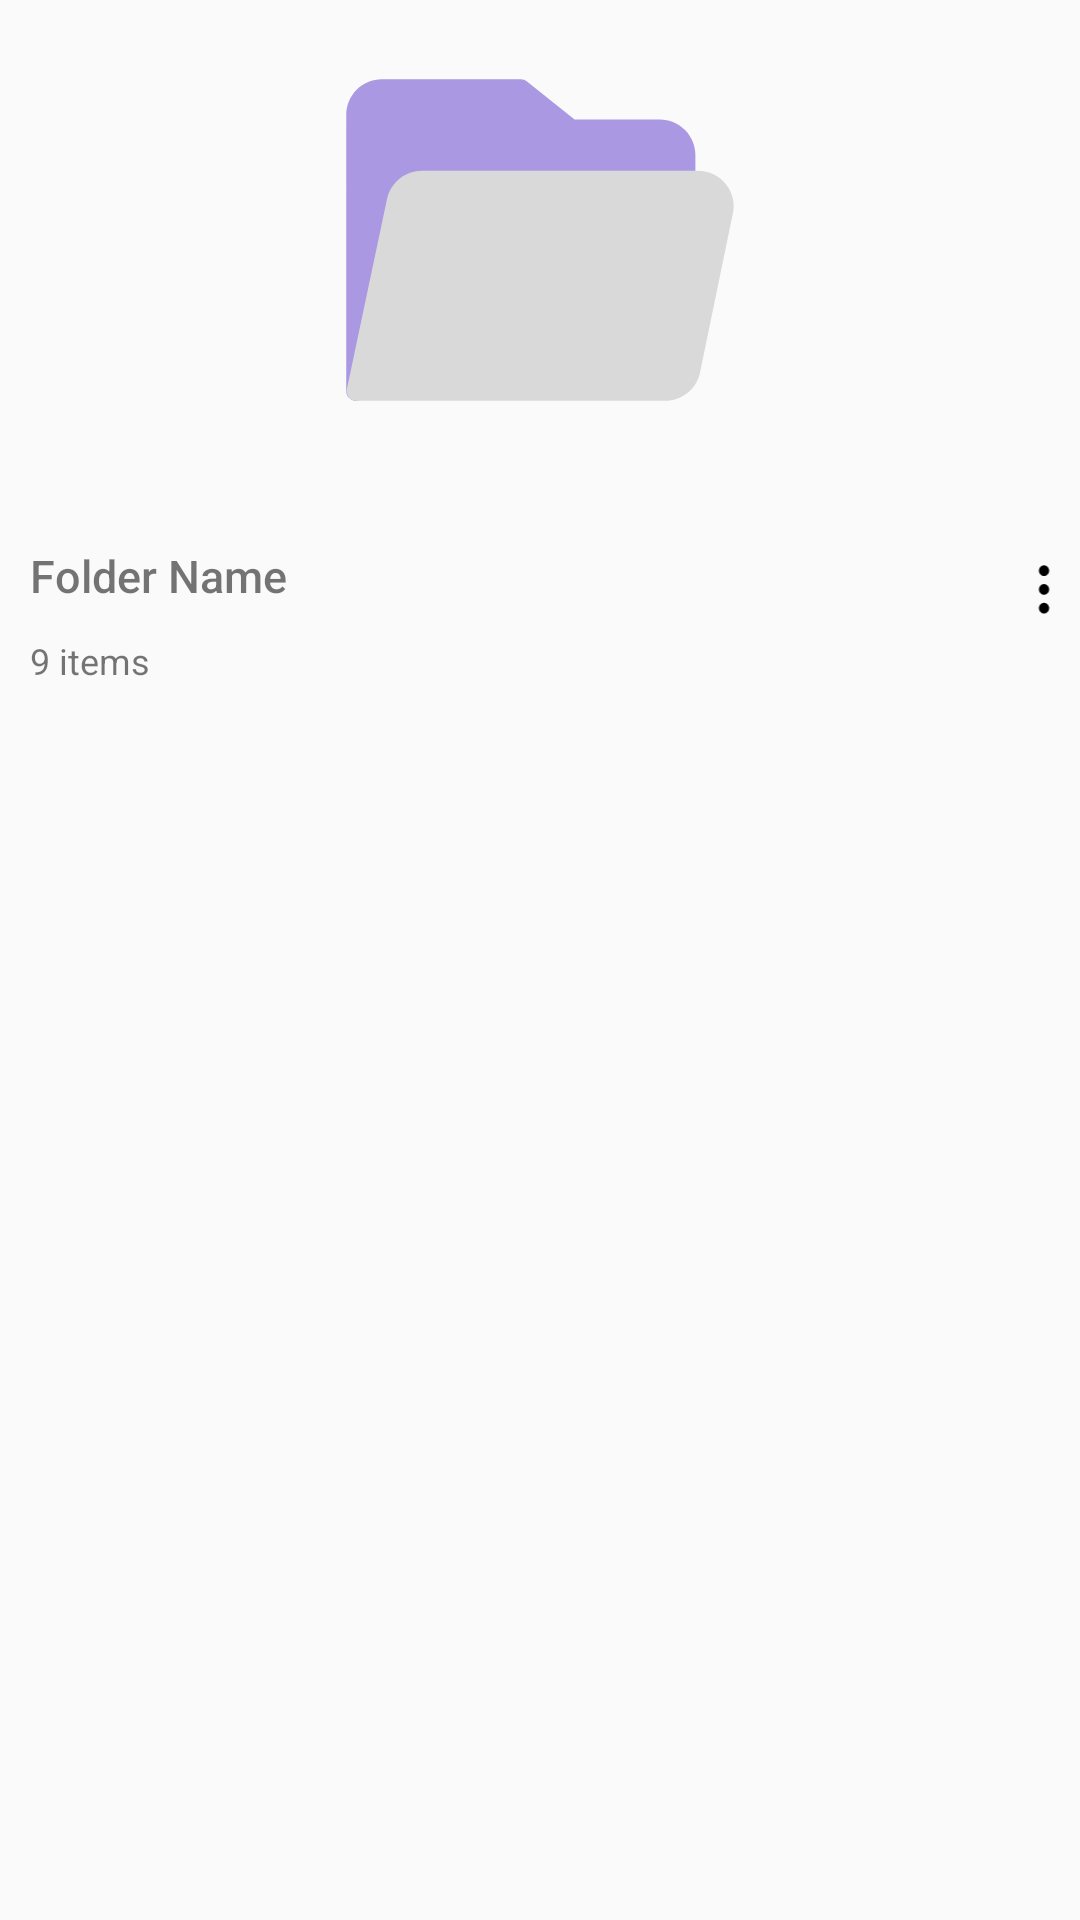

Named icons in this screenshot (1080px x 1920px) and their centers, [x,y]:
Option Menu: [1044,589]
